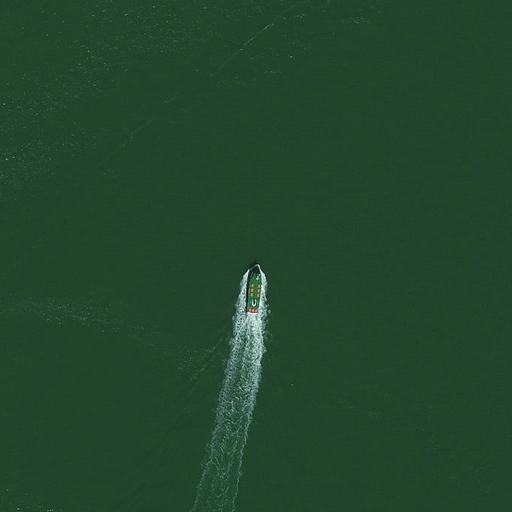ship: (243, 264, 266, 316)
